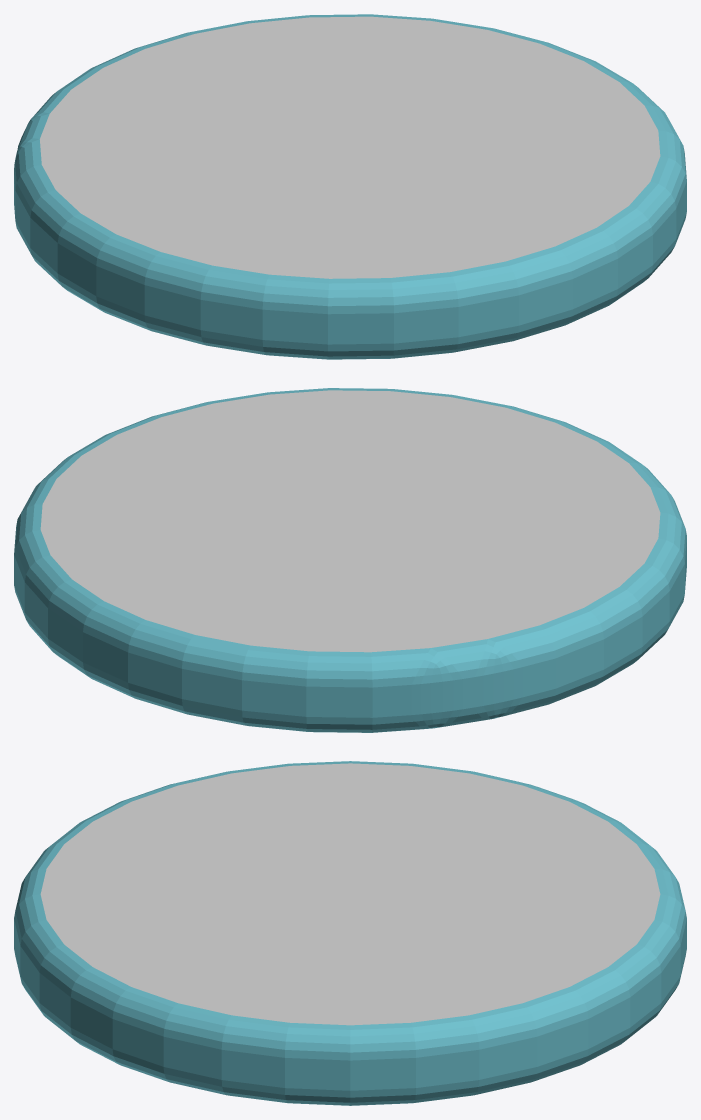
File: ChainCount.fbx
3 views of the same model, one above another, from view 1: azimuth 30°, elevation 25°; view 2: azimuth 150°, elevation 25°; view 3: azimuth 270°, elevation 25° (orthographic).
Parts seen in each view (by area): view 1: ChainCount; view 2: ChainCount; view 3: ChainCount.
Part boxes in pixels (box(x1,y1,x2,y2)): ChainCount: box(14, 14, 686, 359); ChainCount: box(14, 388, 686, 732); ChainCount: box(14, 761, 686, 1105).
Size of the model in its own units: 200 by 200 by 25.66.
